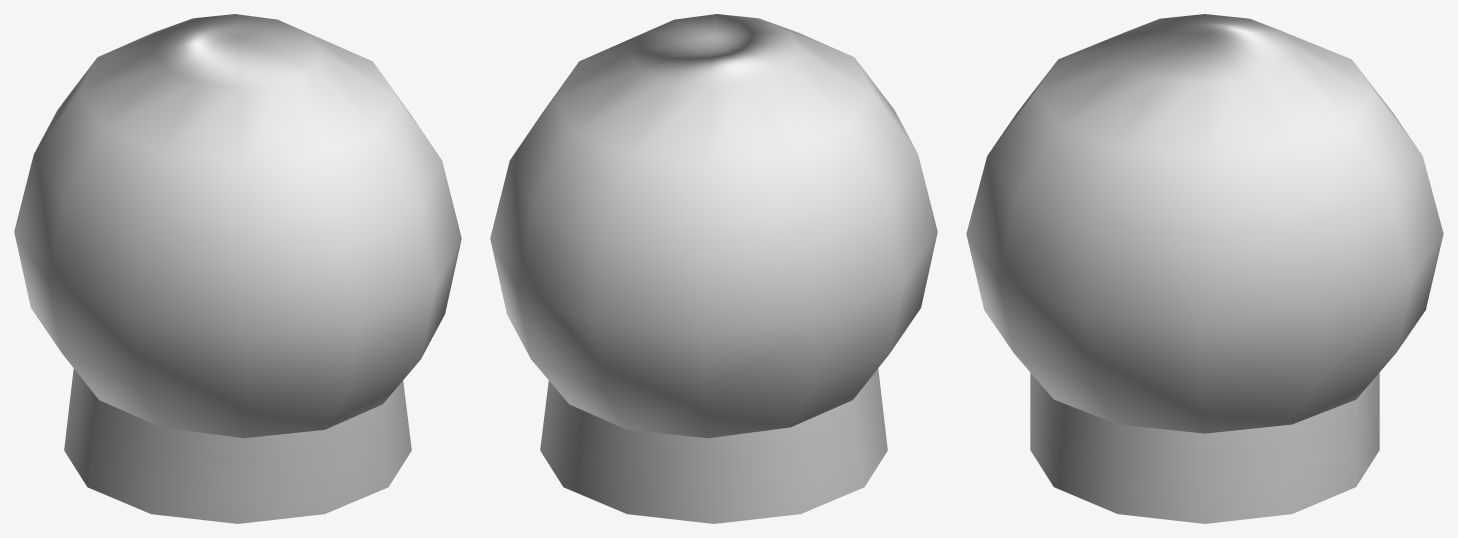
File: Head_Prop_Cooking_Toque_02.fbx
The picture shows the model from 3 angles, left to right: view 1: azimuth 30°, elevation 25°; view 2: azimuth 150°, elevation 25°; view 3: azimuth 270°, elevation 25°; orthographic projection.
Visible parts, largest first — view 1: Head_Prop_Cooking_Toque_02; view 2: Head_Prop_Cooking_Toque_02; view 3: Head_Prop_Cooking_Toque_02.
Part boxes in pixels (x1,y1,x2,y2): Head_Prop_Cooking_Toque_02: [14, 14, 461, 523]; Head_Prop_Cooking_Toque_02: [490, 14, 937, 523]; Head_Prop_Cooking_Toque_02: [966, 14, 1443, 523].
Size of the model in its own units: 126 by 131 by 137.
